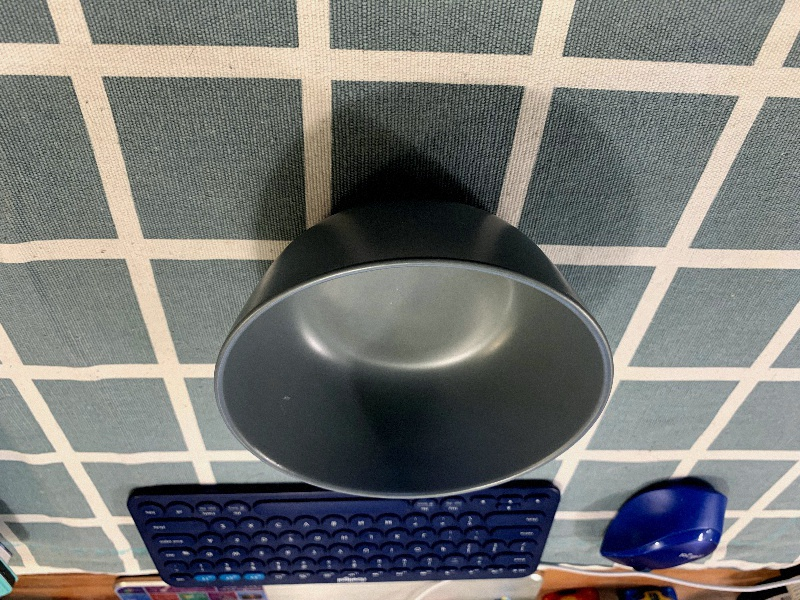bowl_big: (208, 191, 623, 503)
